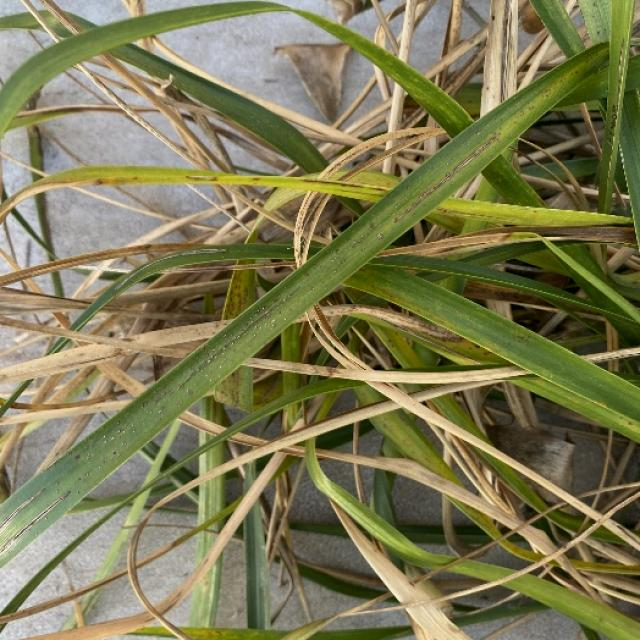wet: (113, 26, 631, 601), (354, 268, 607, 472), (392, 38, 624, 210), (264, 6, 482, 140), (0, 10, 171, 172), (110, 44, 327, 168), (0, 165, 397, 220), (279, 178, 638, 237), (470, 570, 640, 640), (536, 234, 638, 344), (100, 1, 325, 49), (520, 502, 636, 549), (8, 195, 56, 271), (526, 1, 592, 56), (524, 154, 610, 188)
